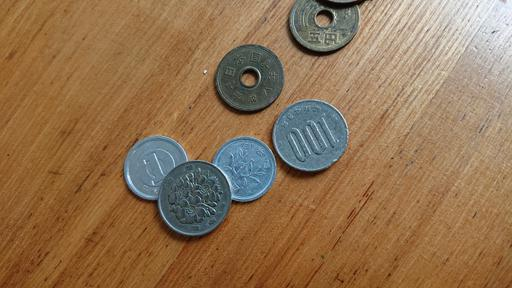100yen: (158, 161, 231, 236), (273, 100, 348, 172)
1yen: (123, 135, 190, 201), (210, 136, 276, 201)
5yen: (215, 45, 283, 112), (288, 1, 360, 53)
